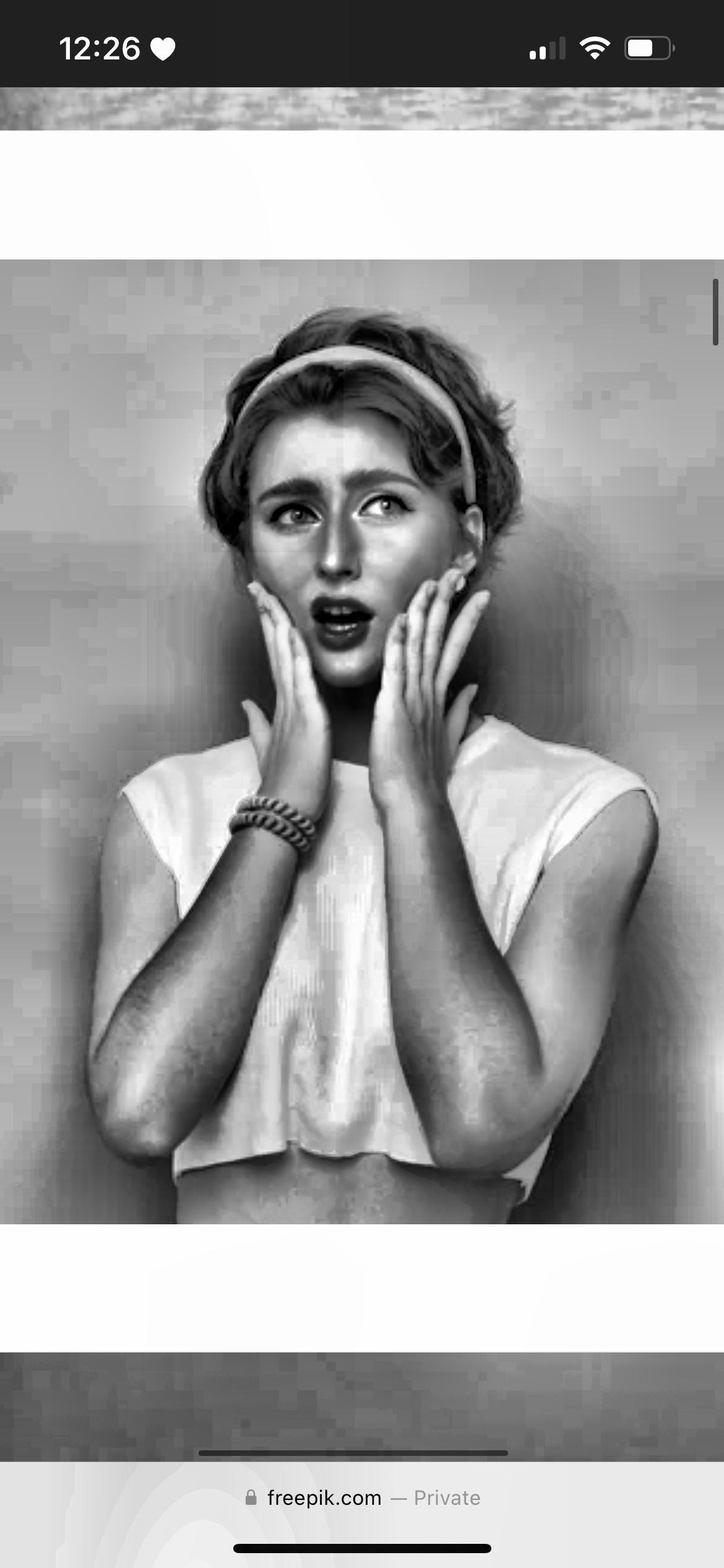surprised: (252, 442, 425, 683)
